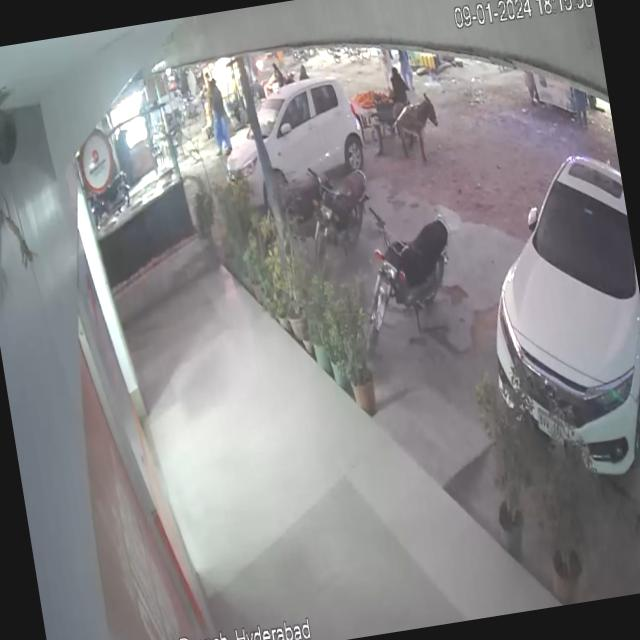Car: (455, 104, 640, 504), (192, 59, 373, 202)
Motorcycle: (342, 184, 477, 360), (304, 157, 383, 258)
